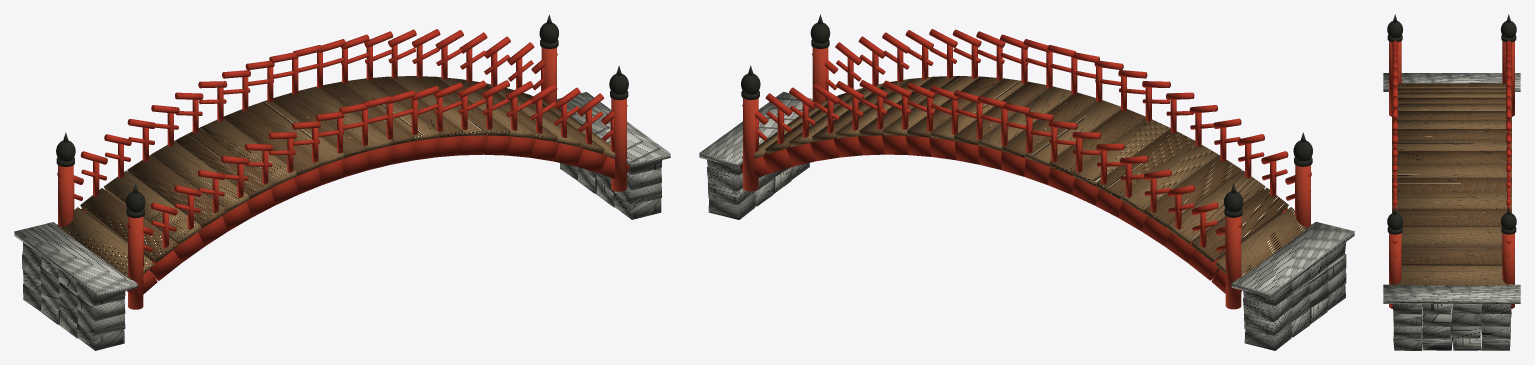
File: bridge_red.glb
3 renders of one model, left to right at view 1: azimuth 30°, elevation 25°; view 2: azimuth 150°, elevation 25°; view 3: azimuth 270°, elevation 25°, orthographic. The views are drawn at different scales.
Visible parts, largest first — view 1: geometry_2, geometry_0, geometry_1, geometry_6, geometry_5, geometry_4; view 2: geometry_2, geometry_0, geometry_1, geometry_6, geometry_5, geometry_4; view 3: geometry_0, geometry_1, geometry_2, geometry_6, geometry_5, geometry_4.
Part boxes in pixels (x1,y1,x2,y2): geometry_2: (56,14,630,309); geometry_0: (57,76,627,279); geometry_1: (80,76,604,262); geometry_6: (14,92,670,297); geometry_5: (22,167,661,338); geometry_4: (22,160,662,350); geometry_2: (739,14,1312,309); geometry_0: (741,76,1312,279); geometry_1: (765,76,1288,262); geometry_6: (699,91,1354,296); geometry_5: (706,167,1346,337); geometry_4: (707,159,1346,350); geometry_0: (1392,83,1511,285); geometry_1: (1392,83,1511,265); geometry_2: (1387,14,1516,308); geometry_6: (1383,73,1520,303); geometry_5: (1393,304,1511,350); geometry_4: (1392,304,1511,350).
Size of the model in its own units: 16.1 by 4.91 by 4.1.
7 materials, 6 textured.
